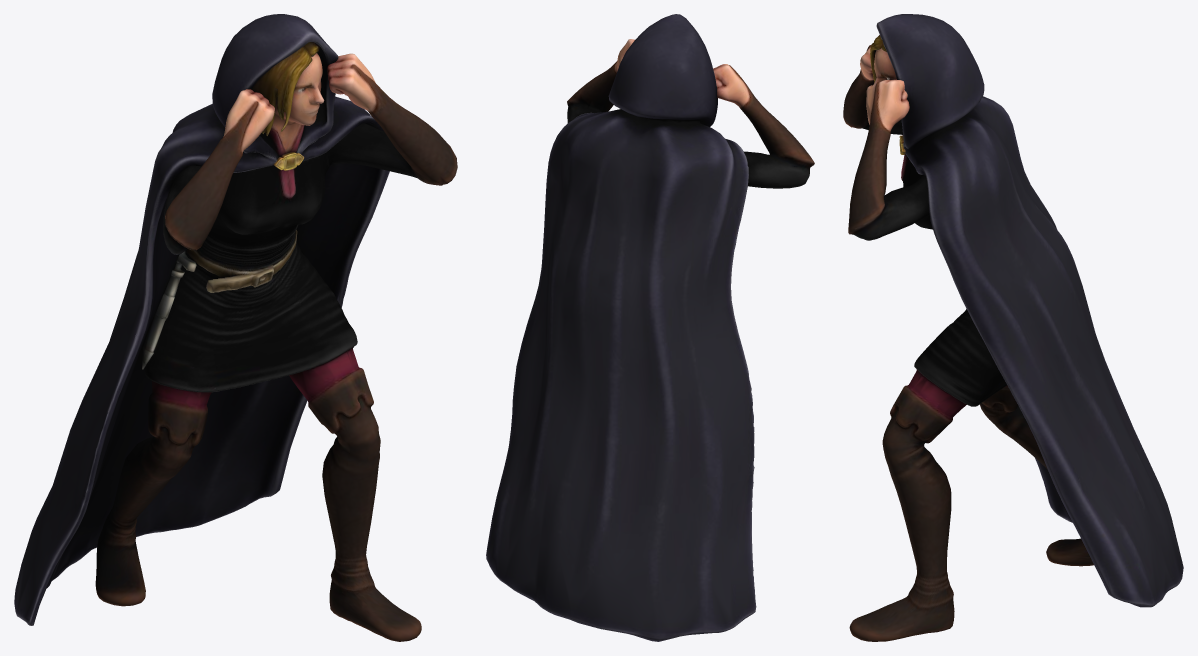
Rendered from Spy.glb.
The picture shows the model from 3 angles, left to right: view 1: azimuth 30°, elevation 25°; view 2: azimuth 150°, elevation 25°; view 3: azimuth 270°, elevation 25°; orthographic projection. The views are drawn at different scales.
Visible parts, largest first — view 1: body_low.001, cape_low.001, hair_low.001, dagger_low.001; view 2: cape_low.001, body_low.001; view 3: cape_low.001, body_low.001.
Boxes of the visible parts, box(x1,y1,x2,y2) form: body_low.001: box(95, 53, 457, 641); cape_low.001: box(14, 14, 389, 625); hair_low.001: box(251, 42, 319, 135); dagger_low.001: box(142, 251, 196, 369); cape_low.001: box(486, 14, 756, 641); body_low.001: box(567, 39, 814, 188); cape_low.001: box(876, 14, 1183, 607); body_low.001: box(843, 45, 1093, 641).
Bounding box in the file's own units: 3.54 × 6.55 × 3.45.
Materials: 1 (1 with a texture image).
